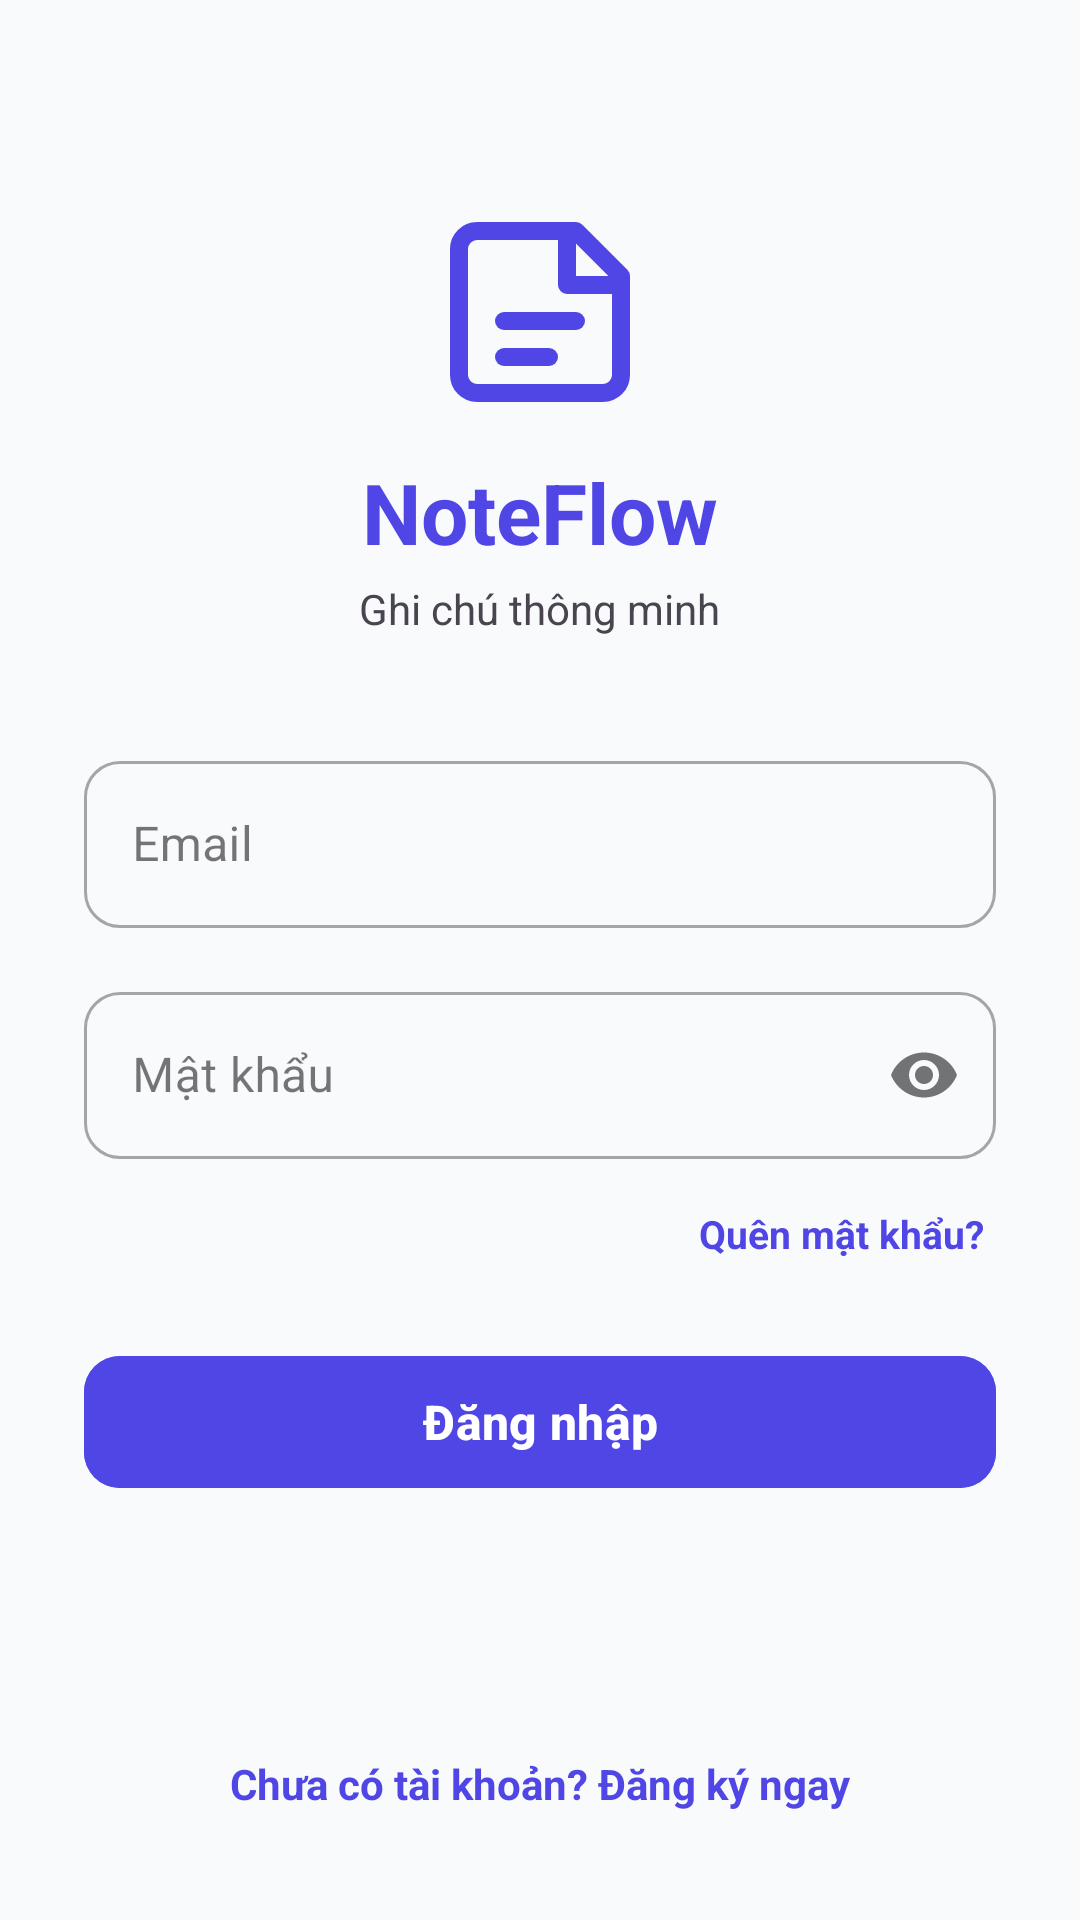

Where to tap for icons on this 1080w x 1920h app screen, as [x,y]:
notes: [540,312]
